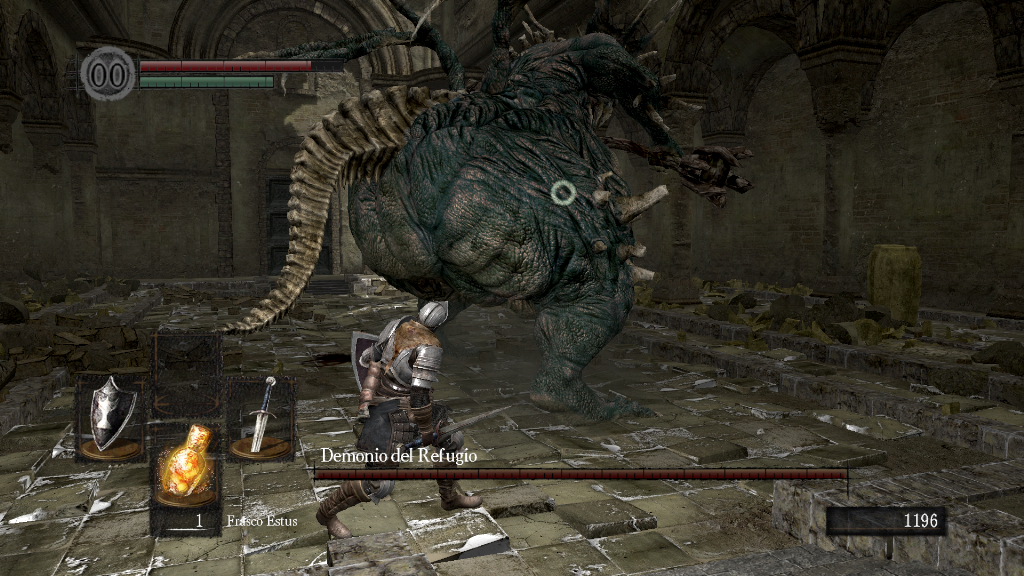asylumDemon: (210, 2, 759, 418)
bossHP: (314, 469, 847, 479)
health: (138, 58, 343, 71)
humanity: (80, 45, 136, 102)
player: (315, 298, 485, 542)
souls: (825, 506, 945, 536)
stamina: (138, 74, 274, 88)
